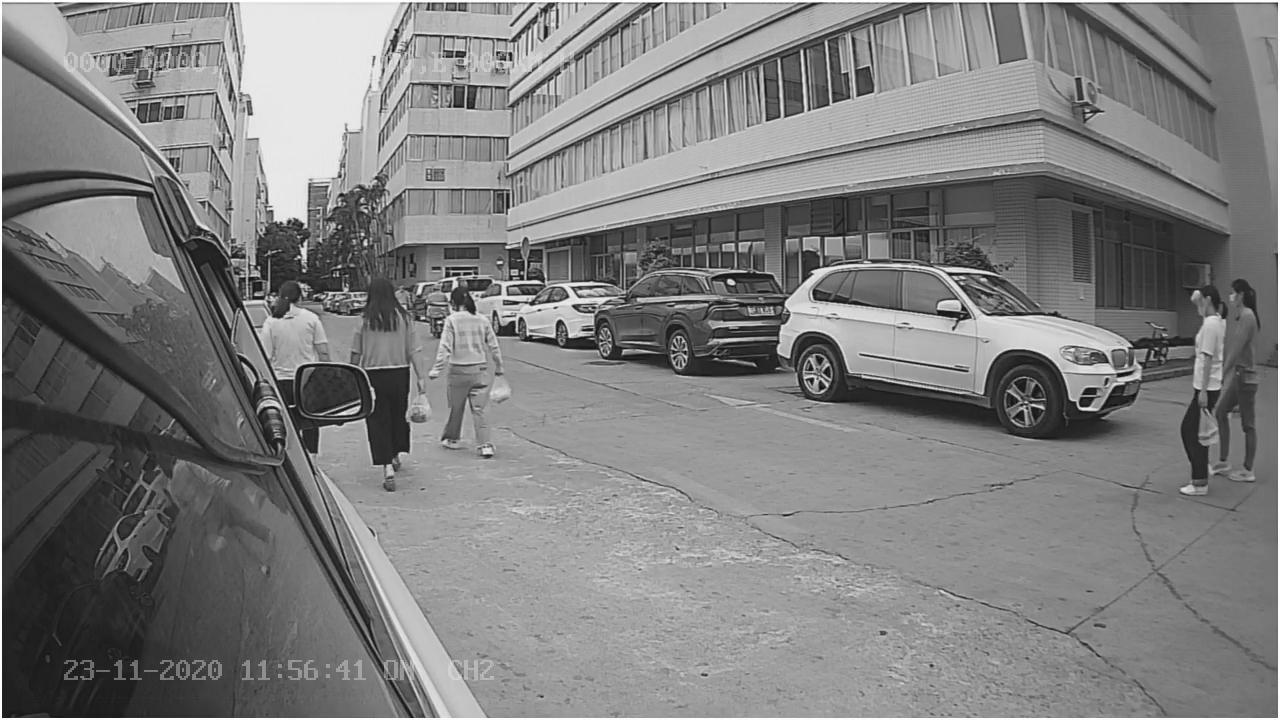person: (347, 270, 438, 504), (436, 288, 518, 463), (1177, 281, 1228, 492), (1220, 276, 1261, 486), (261, 275, 335, 360)
